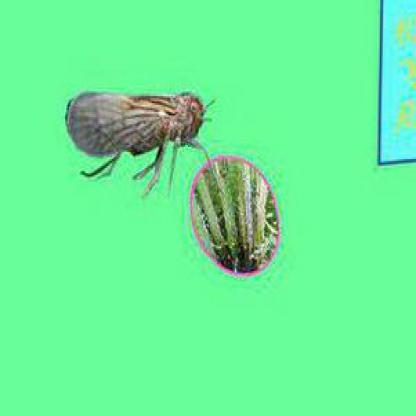brown-planthopper: (64, 84, 209, 162)
